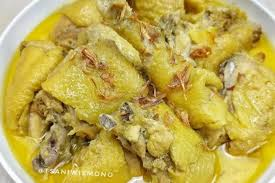Opor ayam: (4, 4, 265, 183)
